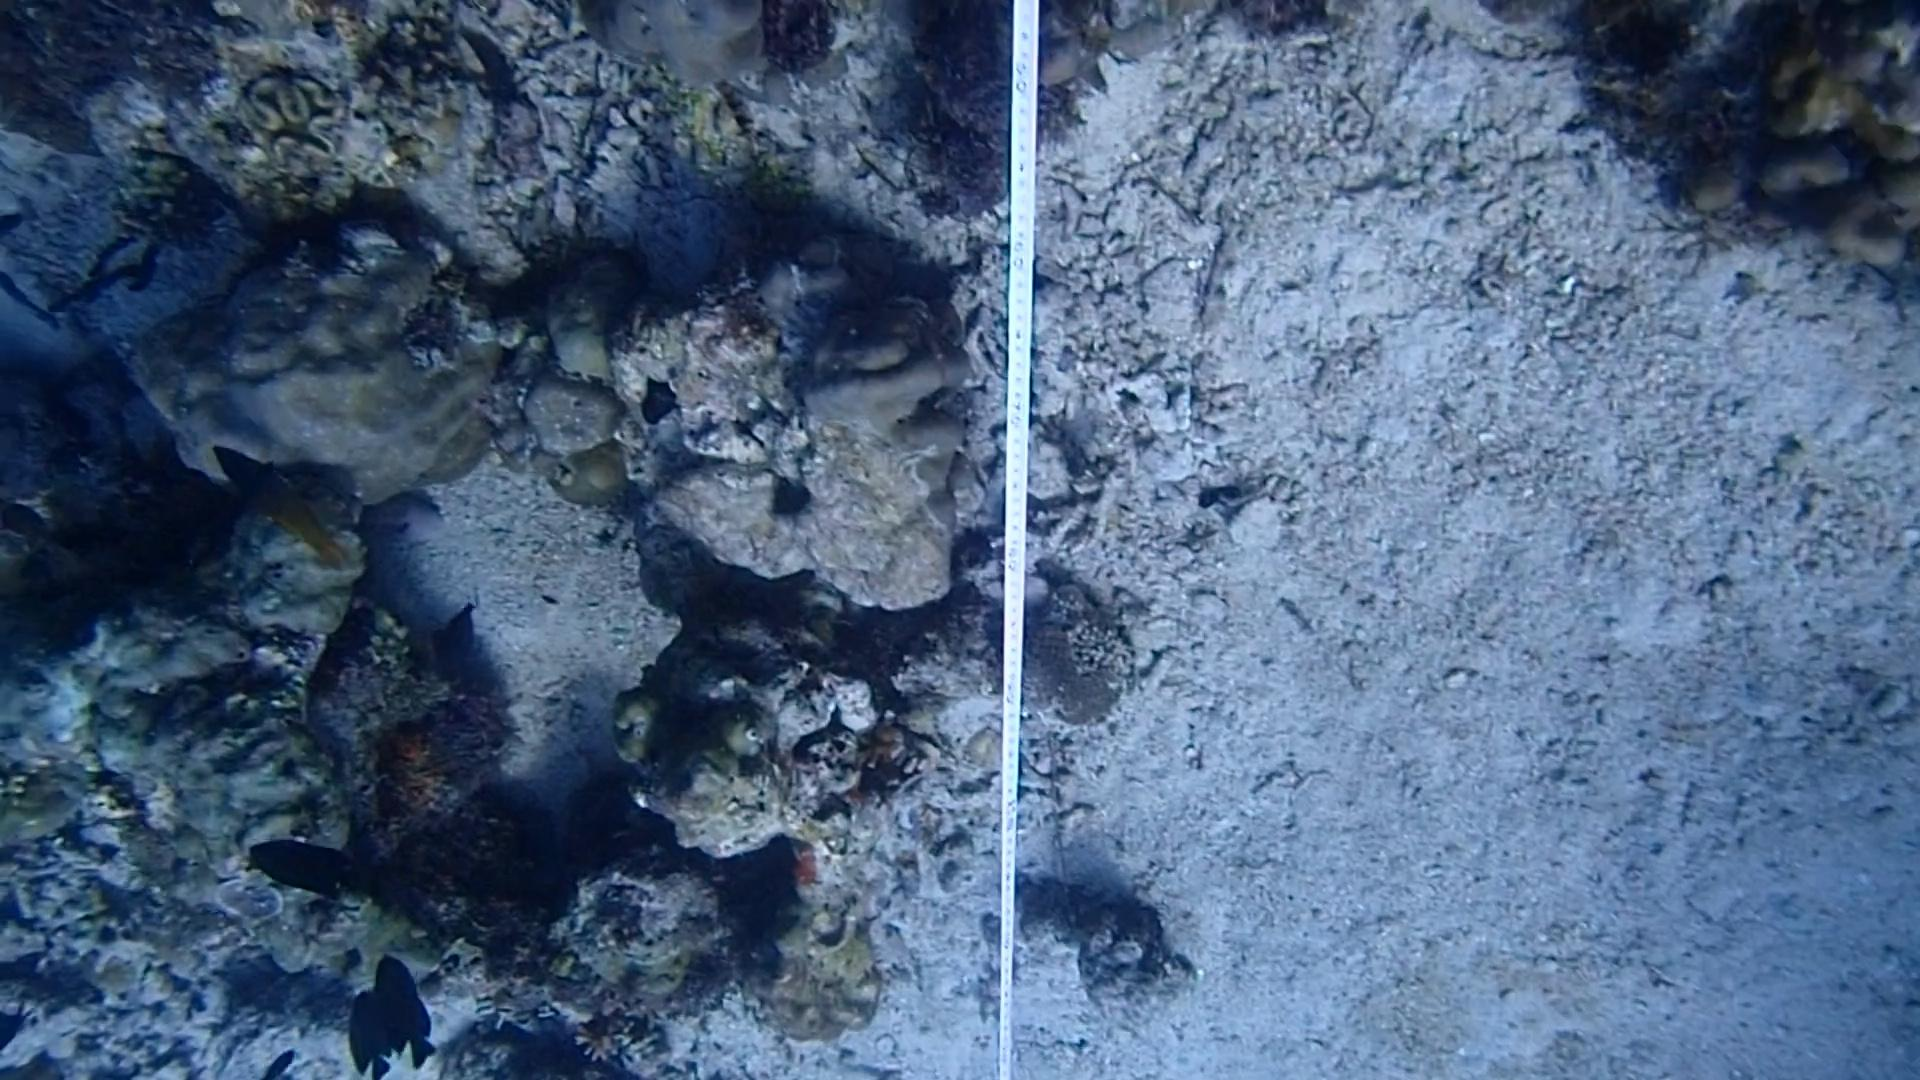Dark Fish: (245, 824, 390, 920), (356, 948, 454, 1080), (315, 986, 409, 1080), (425, 593, 500, 694)
Half Blue - Half Yellow: (210, 438, 361, 583)
